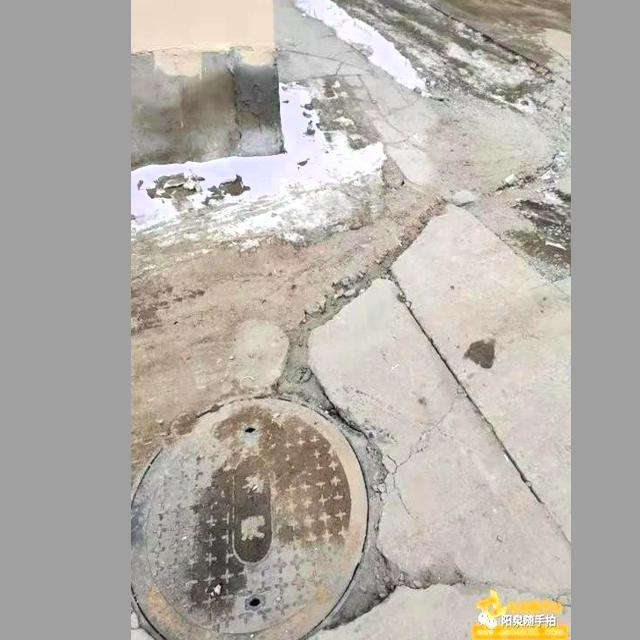circle: (136, 375, 445, 638)
